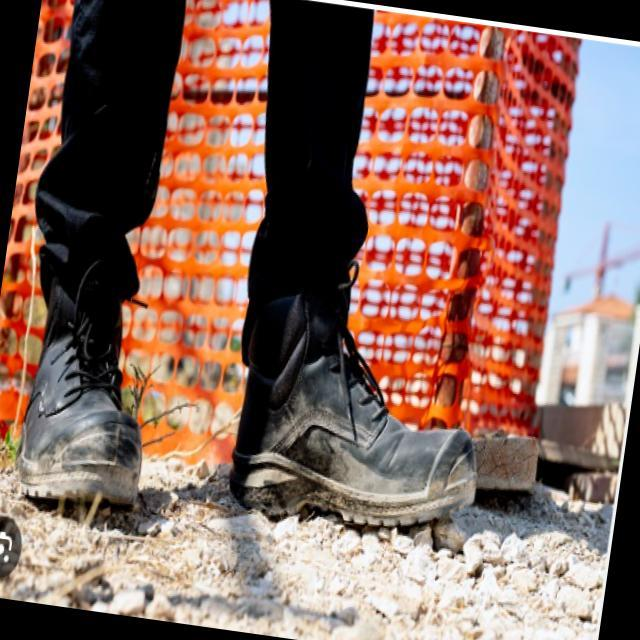boots: (0, 223, 506, 562)
